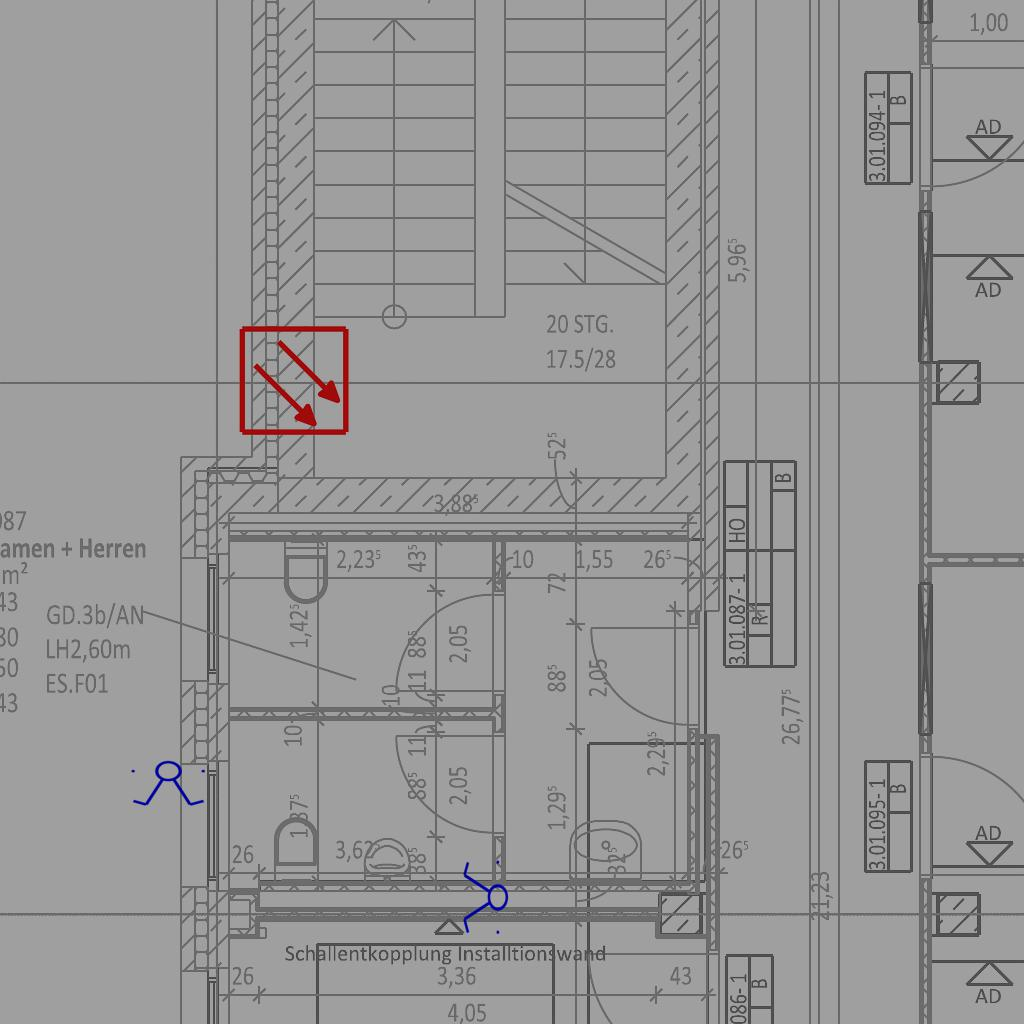RMO_Rauchmelder_optischer: (238, 324, 351, 437)
Serienschalter: (461, 856, 509, 940), (127, 760, 211, 808)
